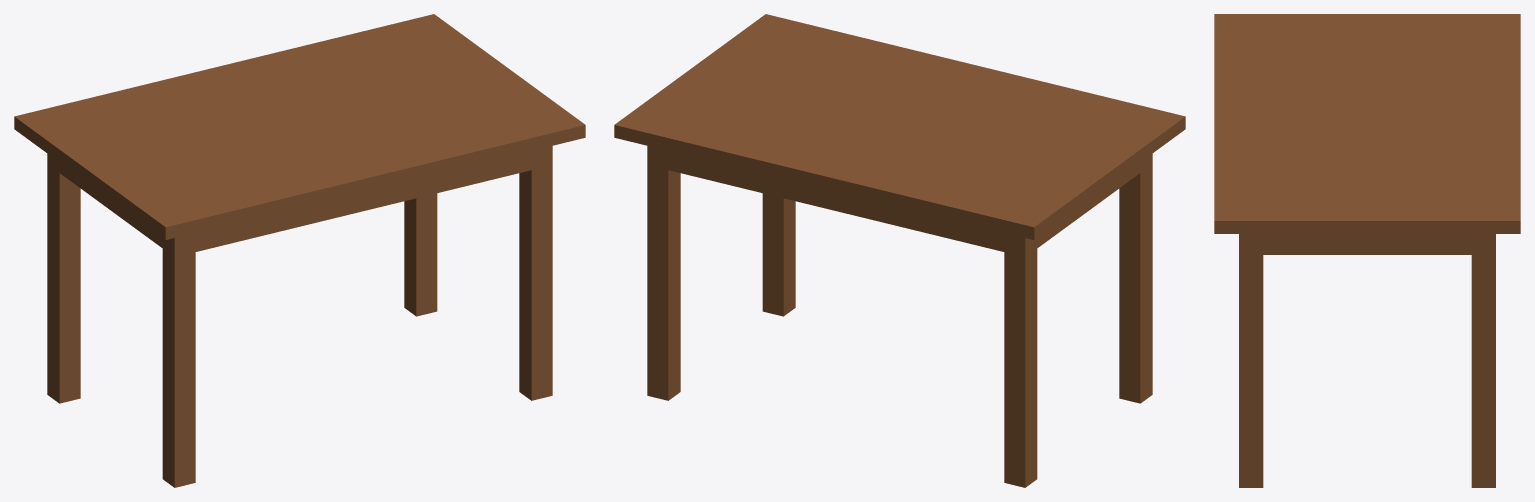
File: parametric-table-3rd.glb
The picture shows the model from 3 angles, left to right: view 1: azimuth 30°, elevation 25°; view 2: azimuth 150°, elevation 25°; view 3: azimuth 270°, elevation 25°; orthographic projection.
Parts seen in each view (by area): view 1: parametric-table-3rd; view 2: parametric-table-3rd; view 3: parametric-table-3rd.
Part boxes in pixels (<box>): parametric-table-3rd: <box>14,14,585,487</box>; parametric-table-3rd: <box>614,14,1185,487</box>; parametric-table-3rd: <box>1214,14,1520,487</box>.
Bounding box in the file's own units: 1.2 × 0.75 × 0.75.
